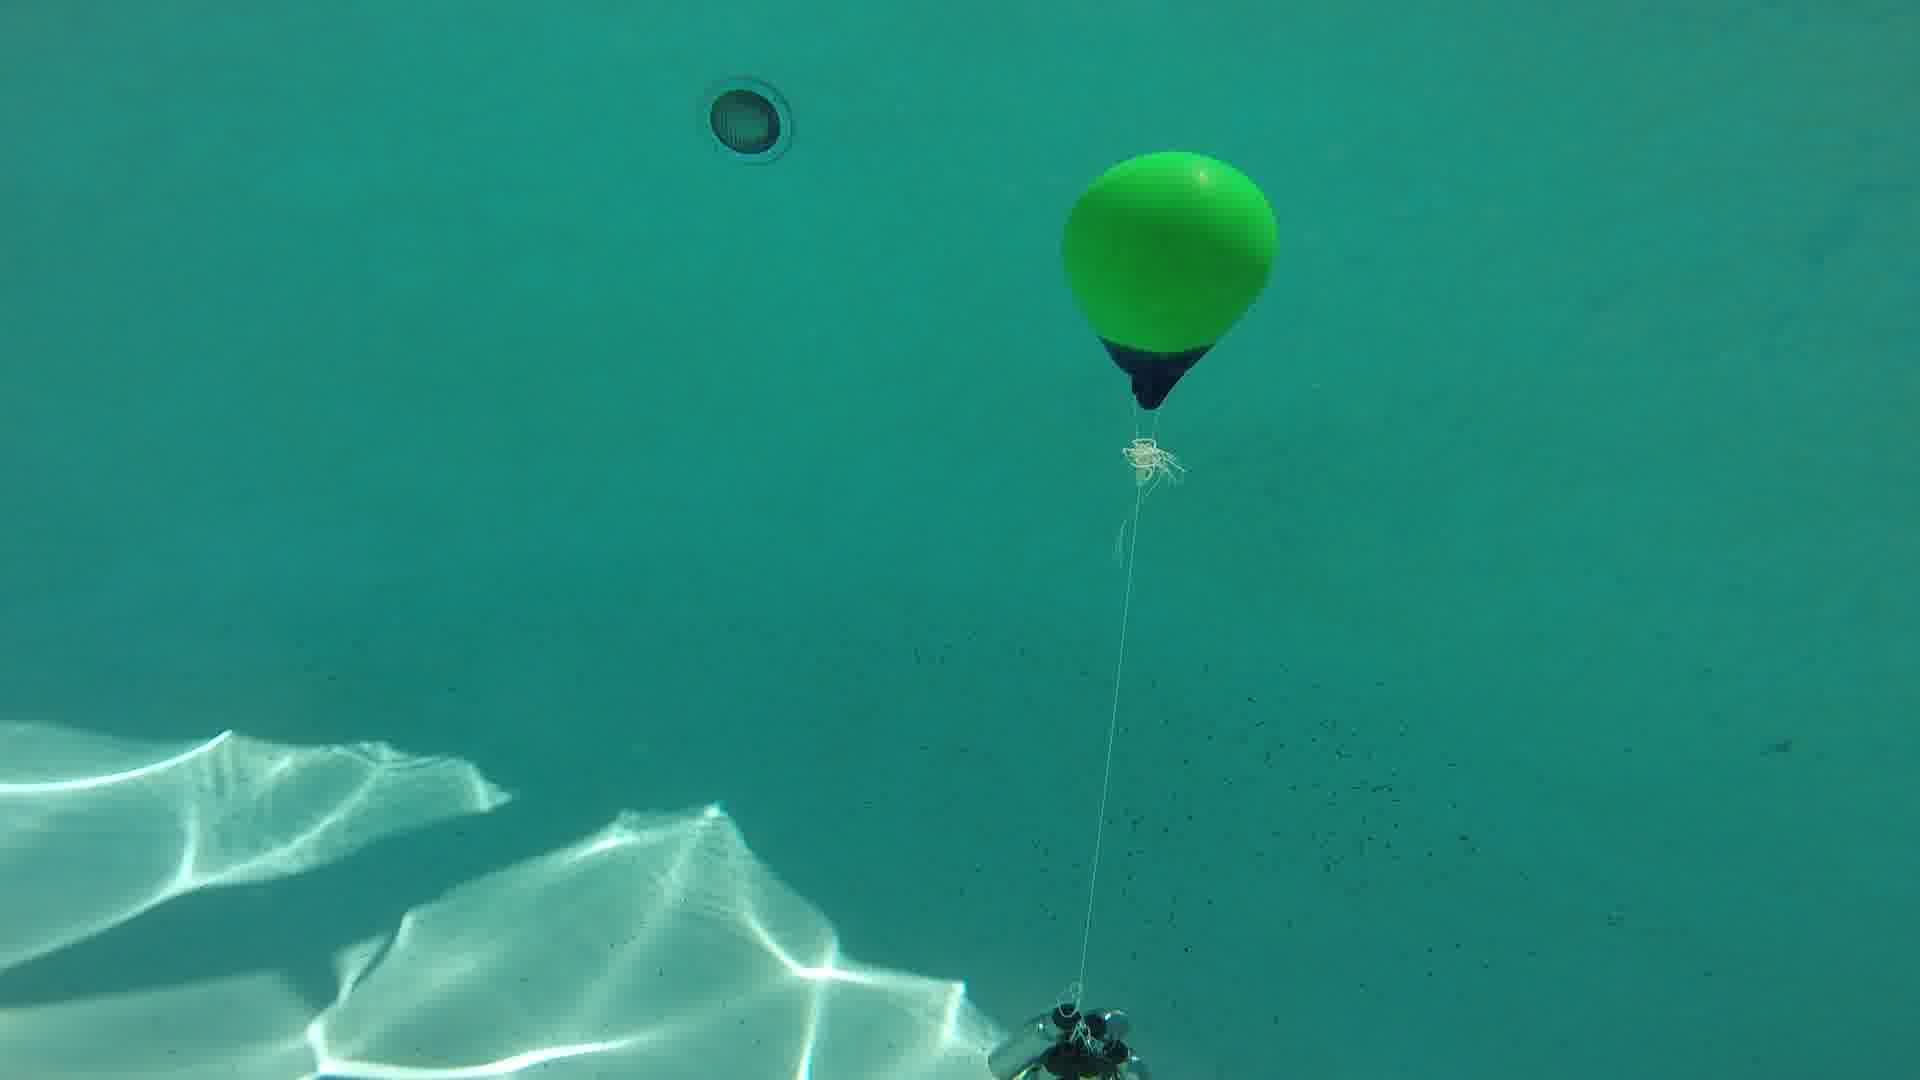yellow_buoy: (1059, 150, 1279, 411)
